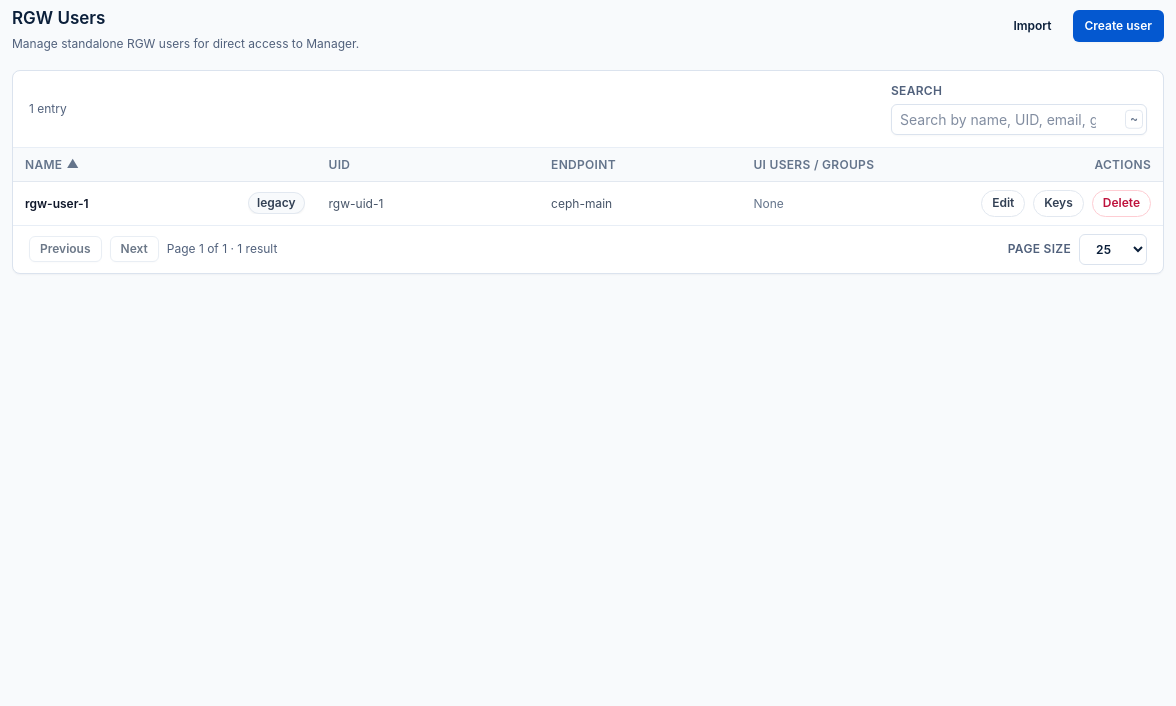
S3UsersPage modal tabs › presents user identity and quotas in consistent General sections
expect the text "rgw-user-1" is shown: met, box 25,196 -> 89,210
Click the button "Edit" at (1003, 203), box 981,190 -> 1025,217
(page scrolled)
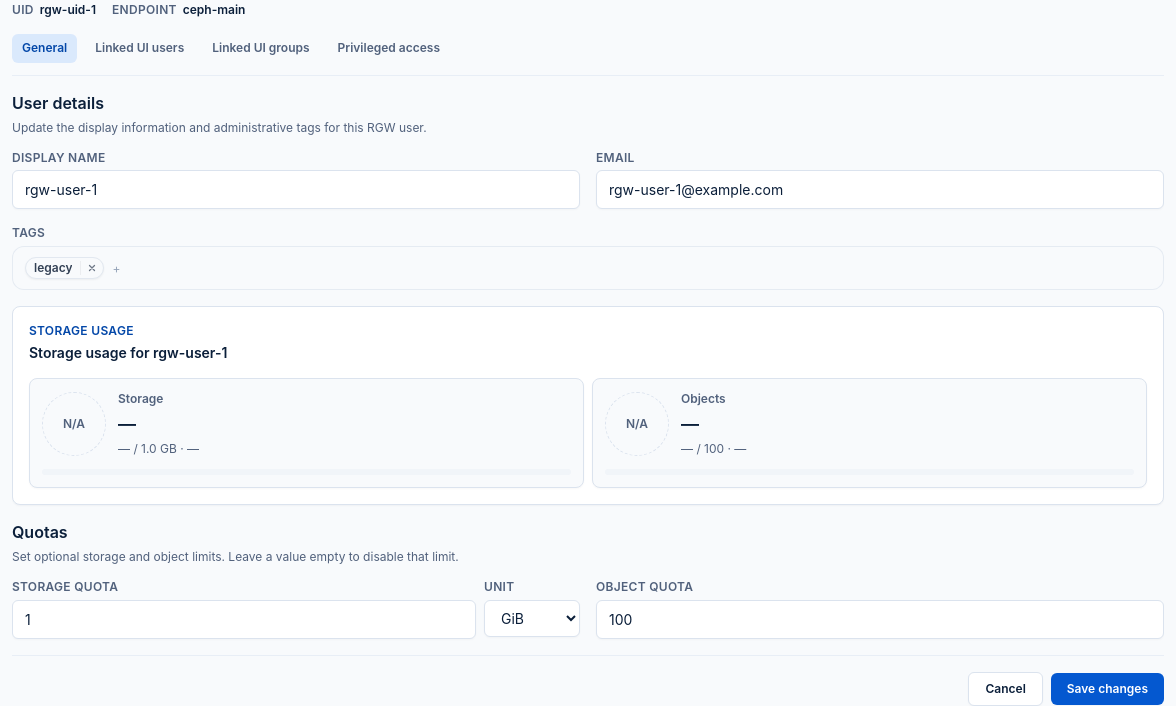
expect the heading "User details" is shown: met, box 12,92 -> 104,112
expect the heading "Quotas" is shown: met, box 12,522 -> 68,542
expect the button "Save changes" is shown: met, box 1051,672 -> 1164,705
